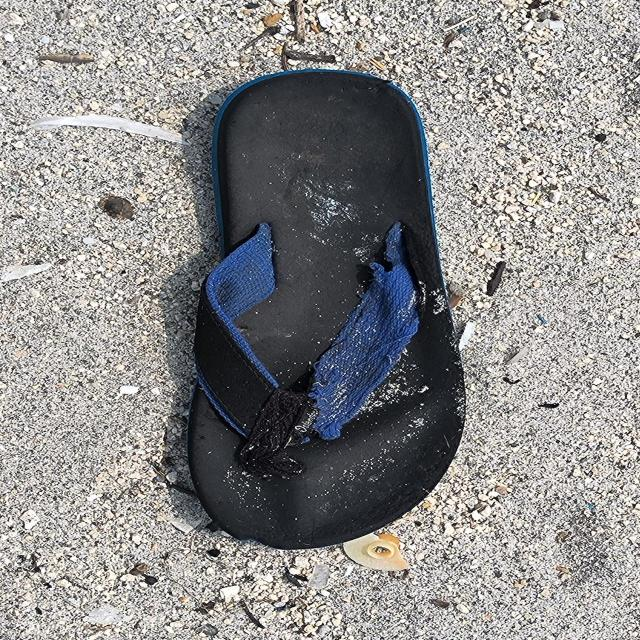rubber_waste: (183, 67, 471, 552)
